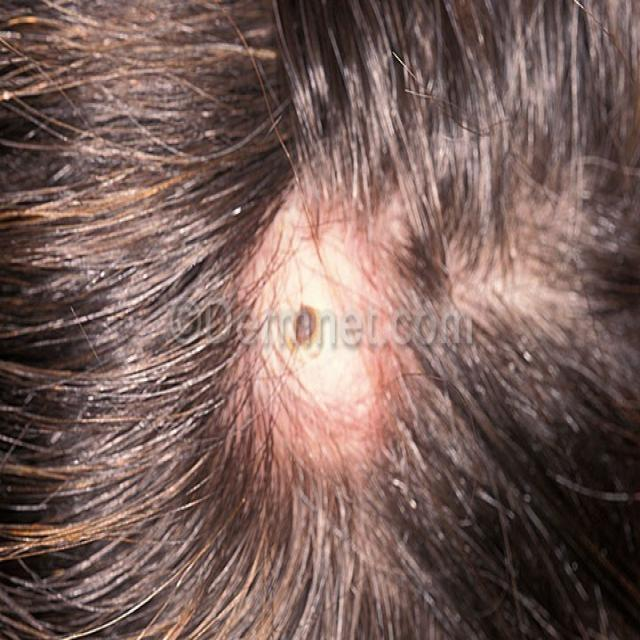Eczema: (272, 288, 324, 356)
